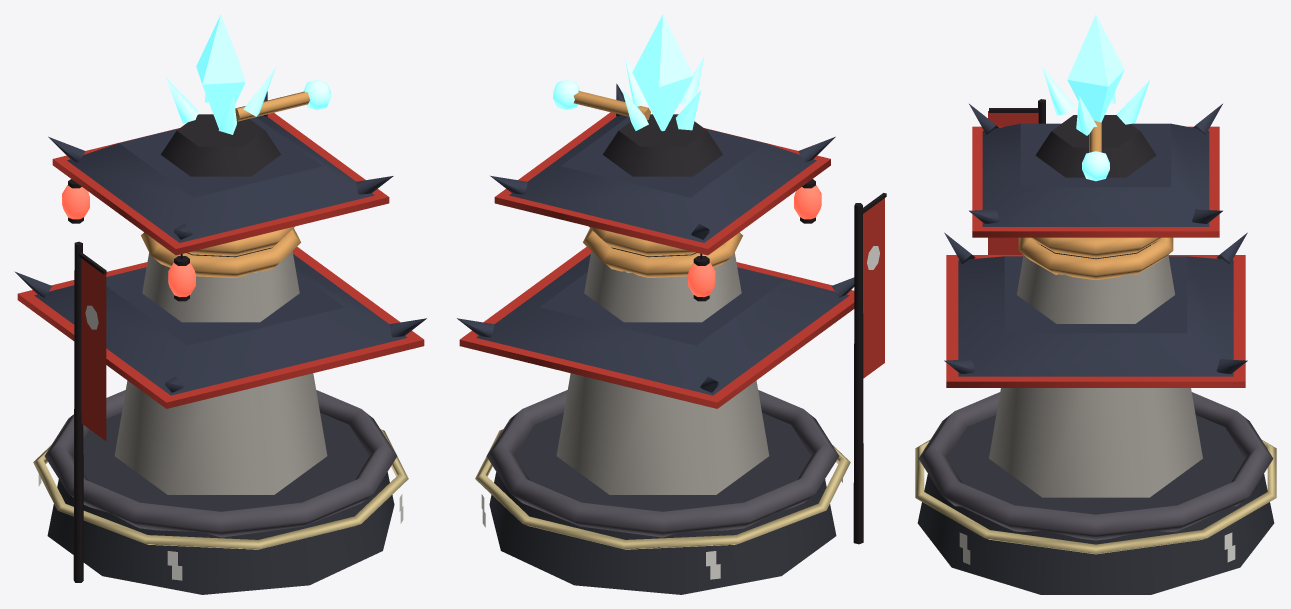
File: tower_chain.glb
The picture shows the model from 3 angles, left to right: view 1: azimuth 30°, elevation 25°; view 2: azimuth 150°, elevation 25°; view 3: azimuth 270°, elevation 25°; orthographic projection.
Visible parts, largest first — view 1: shaft, base, deco_eave_1_roof, deco_eave_0_roof, base_rim, deco_eave_1_rim, deco_eave_0_rim, cap, deco_shimenawa_rope, deco_nobori_cloth, deco_nobori_pole, crystal_core (+9 smaller); view 2: shaft, base, deco_eave_1_roof, deco_eave_0_roof, base_rim, deco_eave_1_rim, deco_eave_0_rim, cap, deco_shimenawa_rope, crystal_core, deco_nobori_cloth, deco_nobori_pole (+8 smaller); view 3: shaft, base, deco_eave_1_roof, deco_eave_0_roof, base_rim, deco_eave_1_rim, deco_eave_0_rim, deco_shimenawa_rope, cap, crystal_core, coil_0, coil_1 (+6 smaller).
Boxes of the visible parts, x1,y1,x2,y2 form: shaft: (114,251,327,494); base: (47,412,394,594); deco_eave_1_roof: (34,254,407,395); deco_eave_0_roof: (67,115,374,242); base_rim: (44,390,397,537); deco_eave_1_rim: (17,247,424,408); deco_eave_0_rim: (52,113,389,255); cap: (161,114,280,176); deco_shimenawa_rope: (33,429,408,549); deco_nobori_cloth: (81,258,106,440); deco_nobori_pole: (73,241,83,582); crystal_core: (196,14,245,128); shaft: (556,251,769,494); base: (489,412,836,594); deco_eave_1_roof: (476,254,849,395); deco_eave_0_roof: (509,115,816,242); base_rim: (486,390,839,537); deco_eave_1_rim: (459,246,854,408); deco_eave_0_rim: (494,112,830,255); cap: (603,114,722,176); deco_shimenawa_rope: (475,429,850,549); crystal_core: (632,14,693,131); deco_nobori_cloth: (863,198,884,378); deco_nobori_pole: (853,203,863,544); shaft: (989,255,1202,497); base: (917,415,1274,594); deco_eave_1_roof: (958,256,1233,376); deco_eave_0_roof: (982,123,1209,226); base_rim: (918,392,1273,540); deco_eave_1_rim: (946,255,1245,387); deco_eave_0_rim: (972,126,1219,237); deco_shimenawa_rope: (915,440,1276,554); cap: (1035,115,1156,177); crystal_core: (1067,14,1124,122); coil_0: (1018,237,1173,280); coil_1: (1029,237,1162,258).
Size of the model in its own units: 0.4387 by 0.63 by 0.4052.
